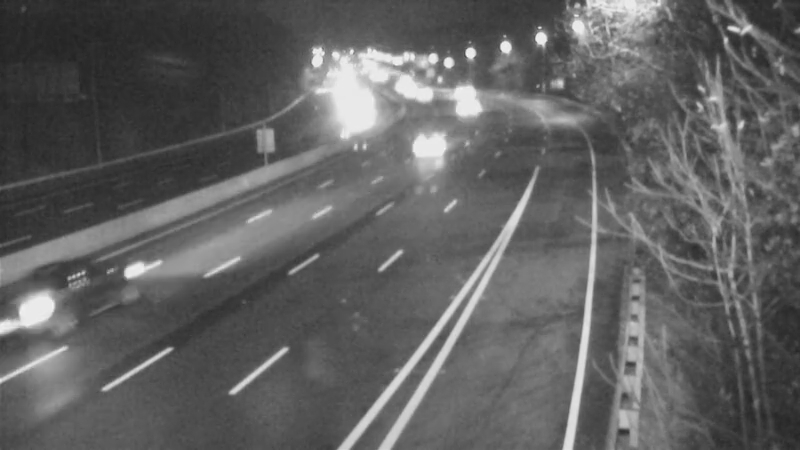vehicle: (5, 247, 115, 357), (375, 62, 425, 112), (386, 67, 436, 117), (396, 70, 446, 120), (431, 67, 481, 117), (444, 86, 494, 136), (402, 124, 452, 174), (324, 81, 374, 131)
